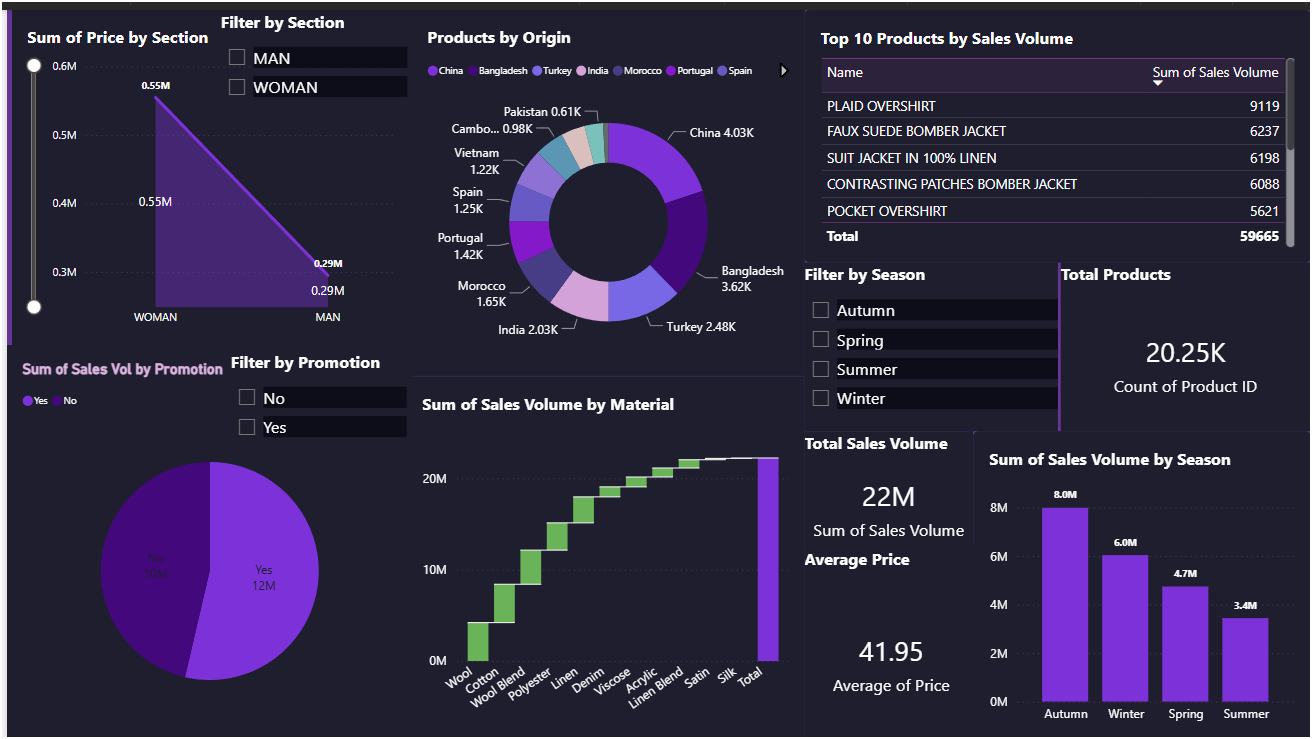

The dashboard page shown, as its layout file describes it:
{"tool":"powerbi","page":{"name":"Page 1","canvas":[1280,720],"ordinal":0},"visuals":[{"type":"card","title":"Total Sales Volume","fields":{"Values":["Sum(Zara_sales_split xlsx.Sales Volume)"]},"box":[782.8,413.5,165.6,117.8],"z":0},{"type":"card","title":"Average Price","fields":{"Values":["Avg(Zara_sales_split xlsx.Price)"]},"box":[782.8,527.6,170.6,192.6],"z":1000},{"type":"card","title":"Total Products","fields":{"Values":["CountNonNull(Zara_sales_split xlsx.Product ID)"]},"box":[1034.4,247.9,245.4,165.6],"z":2000},{"type":"pieChart","title":"Sum of Sales Vol by Promotion","fields":{"Category":["Zara_sales_split xlsx.Promotion"],"Y":["Sum(Zara_sales_split xlsx.Sales Volume)"]},"box":[0,328.8,397.5,391.4],"z":3000},{"type":"clusteredColumnChart","fields":{"Category":["Zara_sales_split xlsx.Season"],"Y":["Sum(Zara_sales_split xlsx.Sales Volume)"]},"box":[948.5,413.5,331.3,306.8],"z":4000},{"type":"stackedAreaChart","fields":{"Category":["Zara_sales_split xlsx.Section"],"Y":["Sum(Zara_sales_split xlsx.Price)"]},"box":[4.9,0,392.6,328.8],"z":5000},{"type":"tableEx","title":"Top 10 Products by Sales Volume","fields":{"Values":["Zara_sales_split xlsx.Name","Sum(Zara_sales_split xlsx.Sales Volume)"]},"box":[782.8,0,496.9,247.9],"z":6000},{"type":"actionButton","box":[0,0,100,40],"z":7000},{"type":"slicer","title":"Filter by Promotion","fields":{"Values":["Zara_sales_split xlsx.Promotion"]},"box":[219.6,333.7,173,117.8],"z":8000},{"type":"slicer","title":"Filter by Section","fields":{"Values":["Zara_sales_split xlsx.Section"]},"box":[209.8,0,182.8,109.2],"z":9000},{"type":"slicer","title":"Filter by Season","fields":{"Values":["Zara_sales_split xlsx.Season"]},"box":[782.8,247.9,249.1,165.6],"z":10000},{"type":"donutChart","title":"Products by Origin","fields":{"Category":["Zara_sales_split xlsx.Origin"],"Y":["CountNonNull(Zara_sales_split xlsx.Product Category)"]},"box":[397.5,0,385.3,359.5],"z":10001},{"type":"waterfallChart","fields":{"Category":["Zara_sales_split xlsx.Material"],"Y":["Sum(Zara_sales_split xlsx.Sales Volume)"]},"box":[392.6,359.5,390.2,360.7],"z":10002}]}

Visuals, with their boxes in screenshot pixels (x1, y1, x2, y2), scaled from the page's 1280x720 canvas onto the 1312x739 screenshot:
"Total Sales Volume" card: 802/424/972/545
"Average Price" card: 802/542/977/738
"Total Products" card: 1060/254/1311/424
"Sum of Sales Vol by Promotion" pieChart: 0/337/407/738
clusteredColumnChart - Zara_sales_split xlsx.Season x Sum(Zara_sales_split xlsx.Sales Volume): 972/424/1311/738
stackedAreaChart - Zara_sales_split xlsx.Section x Sum(Zara_sales_split xlsx.Price): 5/0/407/337
"Top 10 Products by Sales Volume" tableEx: 802/0/1311/254
actionButton: 0/0/102/41
"Filter by Promotion" slicer: 225/343/402/463
"Filter by Section" slicer: 215/0/402/112
"Filter by Season" slicer: 802/254/1058/424
"Products by Origin" donutChart: 407/0/802/369
waterfallChart - Zara_sales_split xlsx.Material x Sum(Zara_sales_split xlsx.Sales Volume): 402/369/802/738
